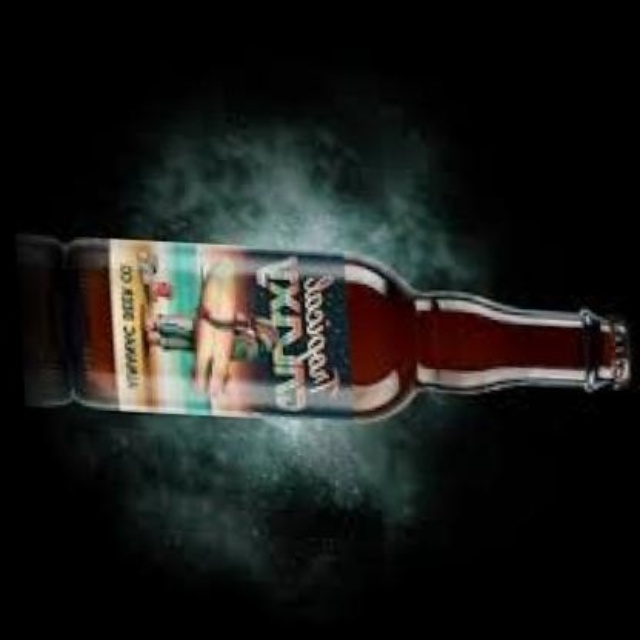trash: (17, 235, 629, 415)
